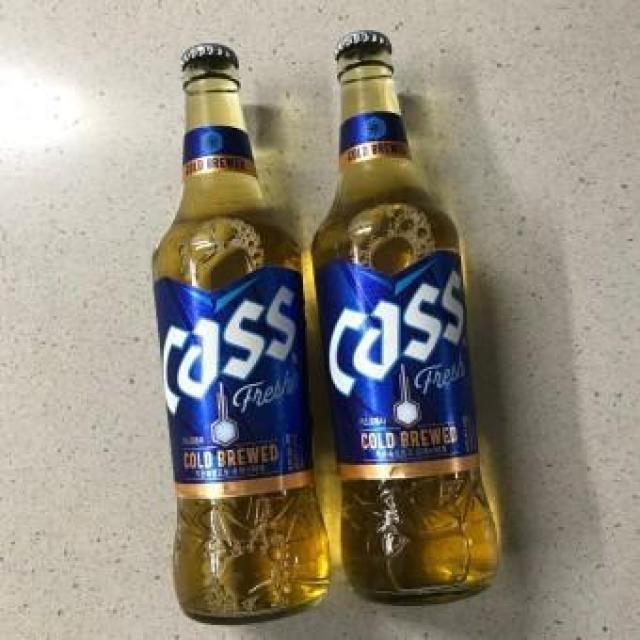beer-bottle: (302, 33, 509, 622), (163, 33, 300, 637)
